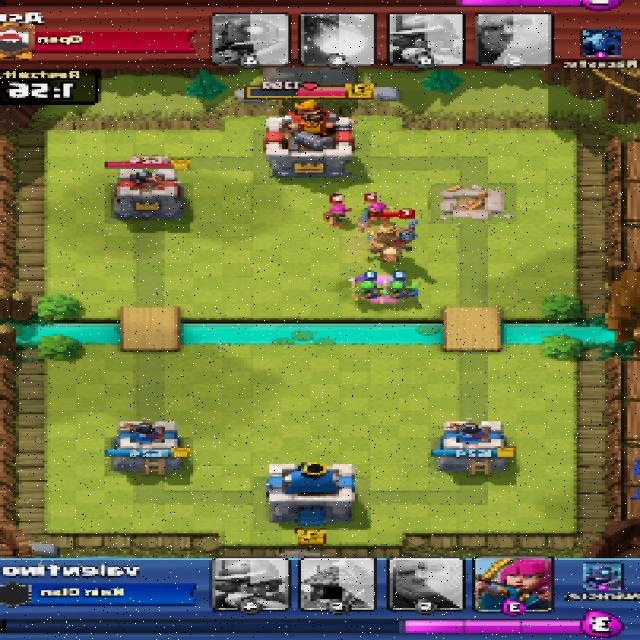Enemy-Archer: (360, 202, 393, 224), (329, 204, 351, 227)
Enemy-Prince: (365, 219, 422, 262)
Player-SpearGoblin: (382, 278, 420, 298), (350, 276, 381, 300)
